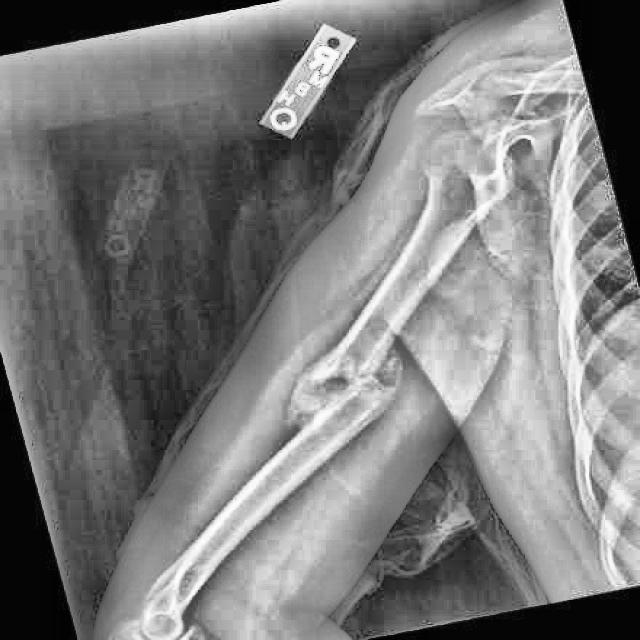humerus: (233, 308, 447, 516)
